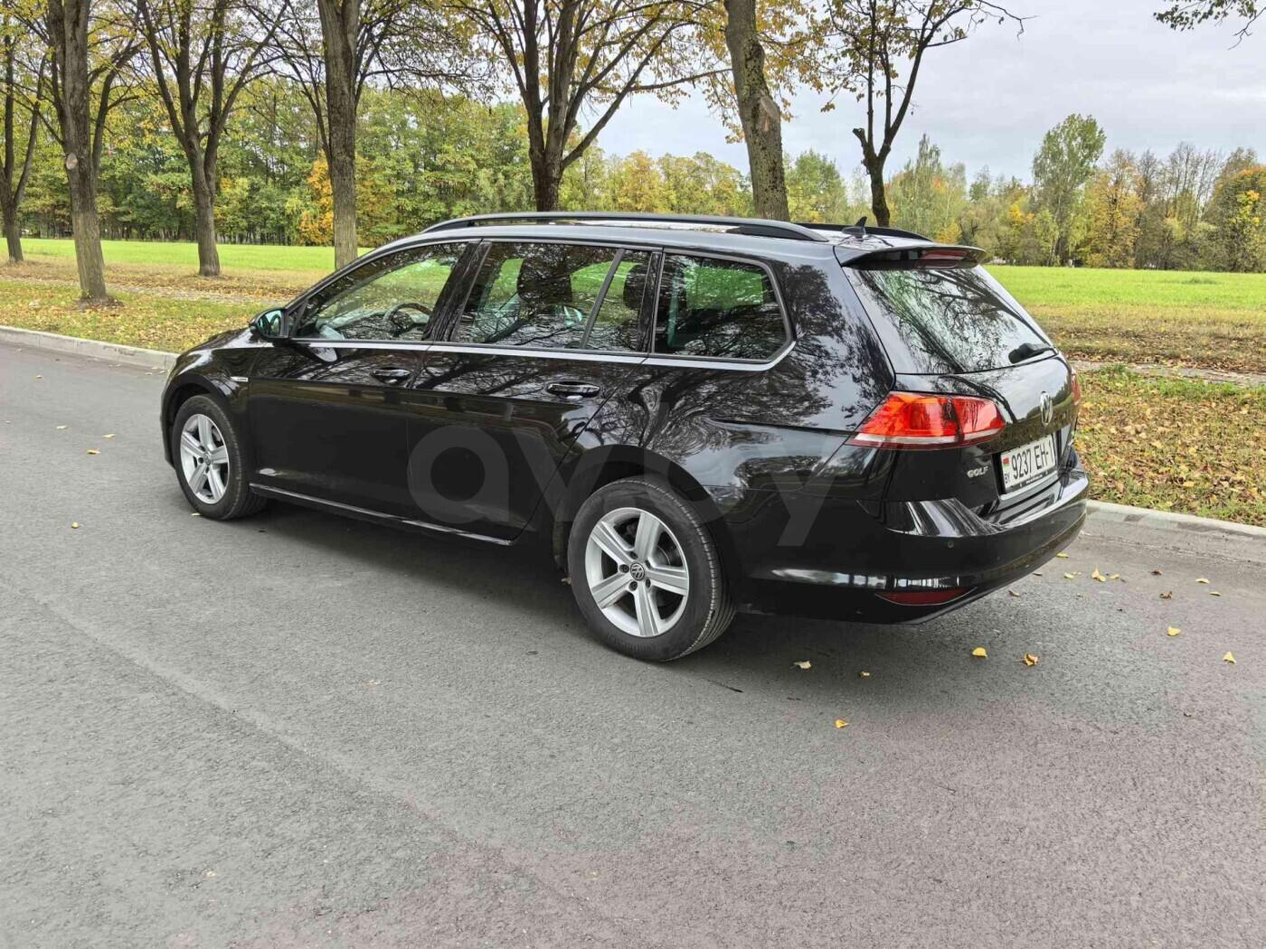Golf_2012-2017: (159, 206, 1087, 666)
